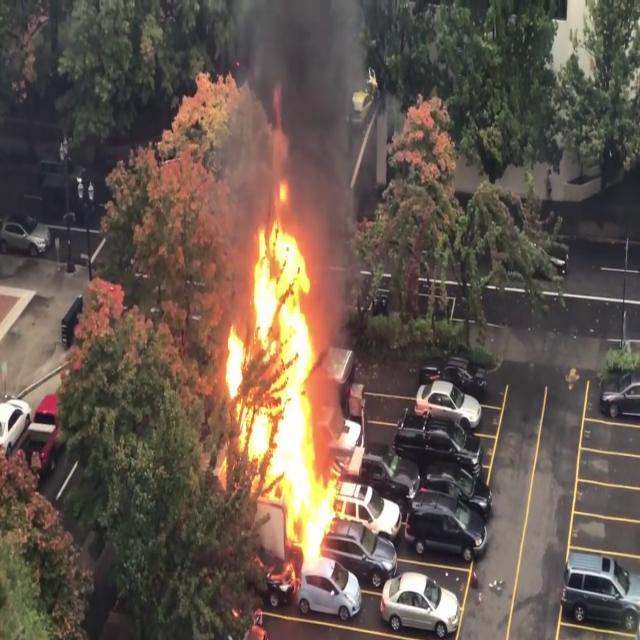Fire: (218, 186, 340, 578)
Smoke: (230, 0, 377, 252)
